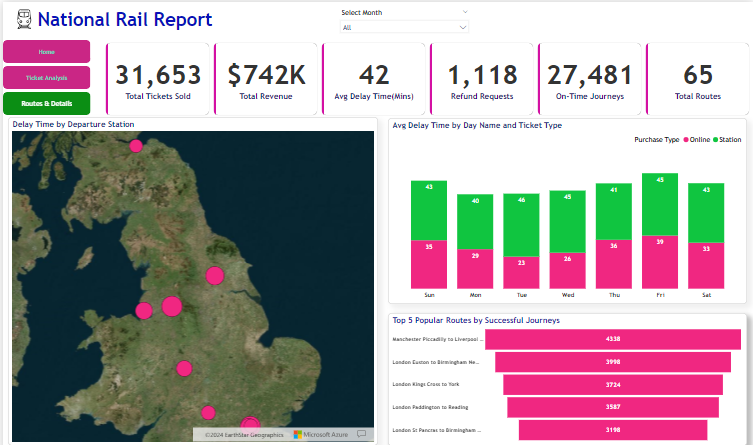

The dashboard page shown, as its layout file describes it:
{"tool":"powerbi","page":{"name":"Routes & Details","canvas":[1500,900],"ordinal":2},"visuals":[{"type":"textbox","box":[63.3,8.3,416.7,55],"z":0},{"type":"cardVisual","fields":{"Data":["railway.Total Tickets Sold","railway.Total Revenue","railway.Avg Delay Time(Mins)","railway.Refund Requests","railway.On-Time Journeys","railway.Total Routes"]},"box":[200,75,1300,156.7],"z":1000},{"type":"azureMap","title":"Delay Time by Departure Station","fields":{"Size":["railway.Avg Delay Time(Mins)"],"Category":["railway.Departure Station"]},"box":[10,230,740,656.7],"z":2000},{"type":"columnChart","title":"Avg Delay Time by Day Name and Ticket Type","fields":{"Category":["Date Table Purchase.Day Name"],"Y":["railway.Avg Delay Time(Mins)"],"Series":["railway.Purchase Type"]},"box":[770,231.7,718.3,371.7],"z":3000},{"type":"funnel","title":"Top 5 Popular Routes by Successful Journeys","fields":{"Category":["railway.Routes"],"Y":["railway.Sucessful Journeys"]},"box":[770,621,718,266],"z":4000},{"type":"slicer","fields":{"Values":["Date Table Journey.Month Name"]},"box":[664.6,7.7,278.5,67.7],"z":6000},{"type":"image","box":[16.2,10,53.8,48.8],"z":7000},{"type":"pageNavigator","box":[0,75,175,150],"z":7001}]}

Visuals, with their boxes in screenshot pixels (x1, y1, x2, y2), scaled from the page's 1500x900 canvas onto the 753x445 screenshot:
textbox: 32,4,241,31
cardVisual - railway.Total Tickets Sold x railway.Total Revenue: 100,37,752,115
"Delay Time by Departure Station" azureMap: 5,114,376,438
"Avg Delay Time by Day Name and Ticket Type" columnChart: 387,115,747,298
"Top 5 Popular Routes by Successful Journeys" funnel: 387,307,747,439
slicer - Date Table Journey.Month Name: 334,4,473,37
image: 8,5,35,29
pageNavigator: 0,37,88,111
